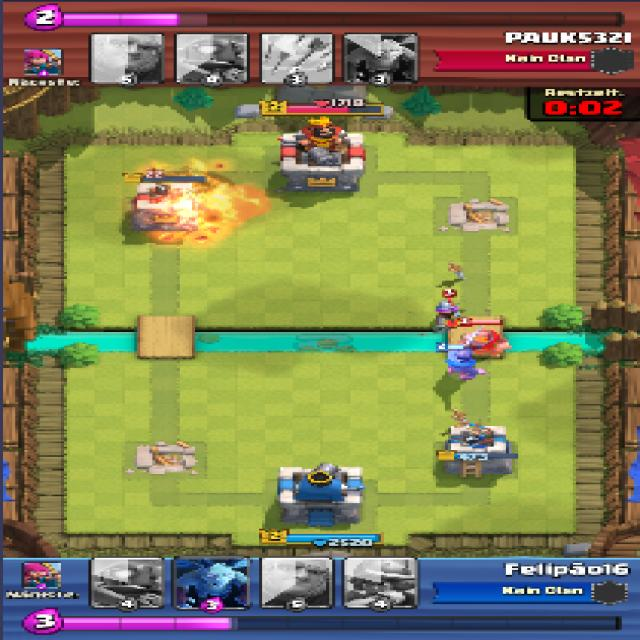Enemy-Knight: (464, 328, 512, 354)
Enemy-Musketeer: (428, 302, 462, 326)
Player-Fireball: (124, 173, 250, 242)
Player-Knight: (434, 345, 483, 378)
